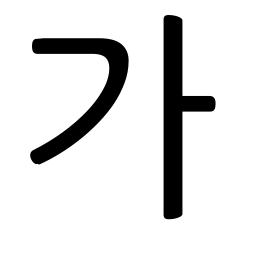Gaji: (150, 81, 198, 131)
